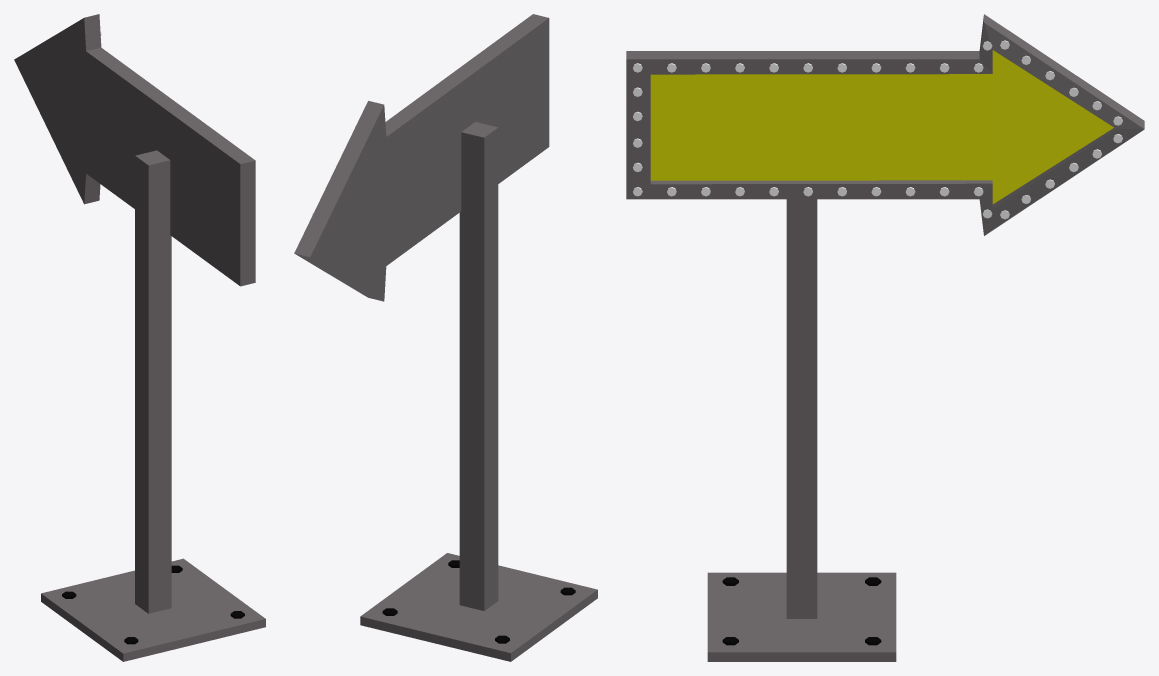
3 views of the same model, side by side, from view 1: azimuth 30°, elevation 25°; view 2: azimuth 150°, elevation 25°; view 3: azimuth 270°, elevation 25° (orthographic). The views are drawn at different scales.
Parts seen in each view (by area): view 1: Cube.001, Cube; view 2: Cube.001, Cube; view 3: Cube.001, Cube, Cylinder.001.
Part boxes in pixels (bbox=[...]): Cube.001: bbox=[14, 14, 255, 286]; Cube: bbox=[41, 150, 265, 661]; Cube.001: bbox=[294, 14, 549, 301]; Cube: bbox=[360, 122, 597, 661]; Cube.001: bbox=[626, 14, 1144, 235]; Cube: bbox=[707, 199, 896, 661]; Cylinder.001: bbox=[632, 40, 1122, 219].
Size of the model in its own units: 208 by 747 by 571.
